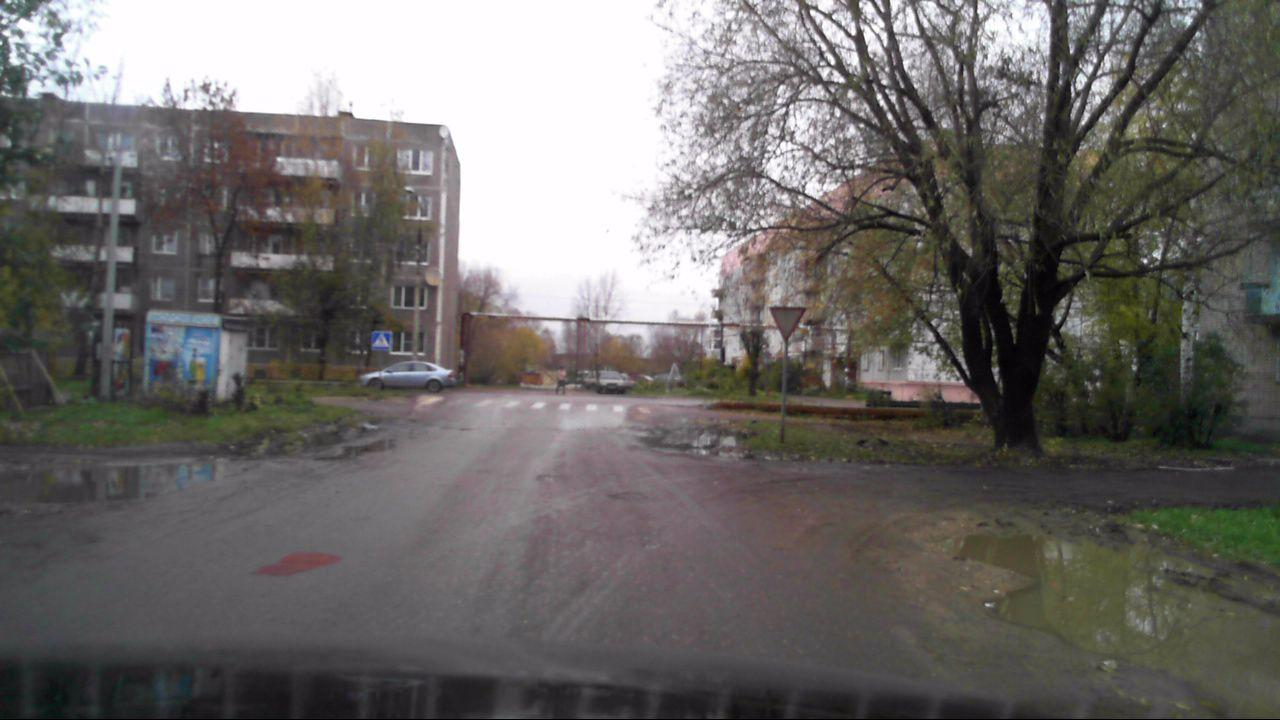2_4: (770, 305, 805, 345)
5_19_2: (370, 330, 393, 356)
